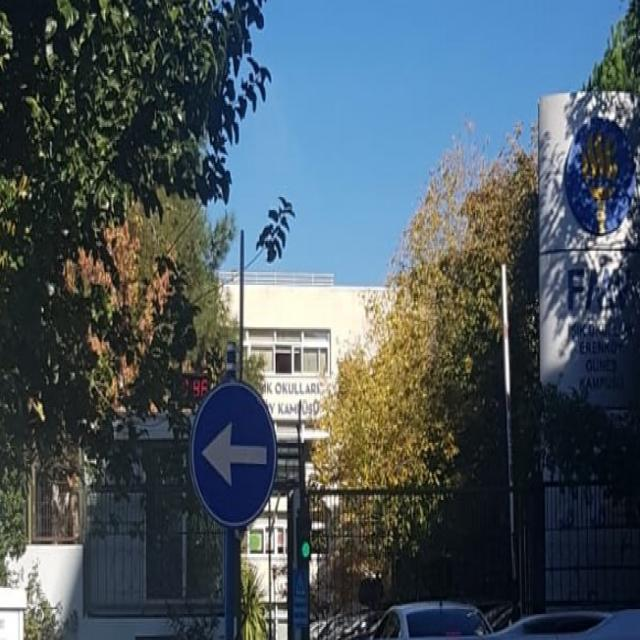Turn Left: (192, 384, 276, 543)
